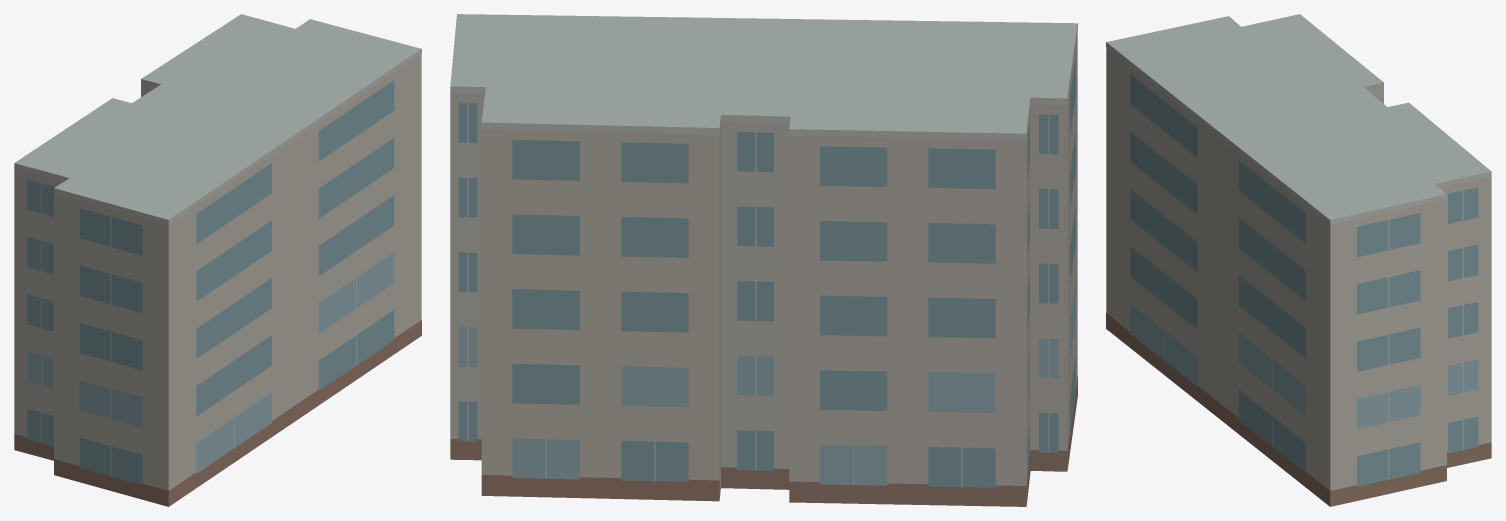
Rendered from survey-upis-32974633.glb.
The picture shows the model from 3 angles, left to right: view 1: azimuth 30°, elevation 25°; view 2: azimuth 150°, elevation 25°; view 3: azimuth 270°, elevation 25°; orthographic projection. The views are drawn at different scales.
Visible parts, largest first — view 1: survey-upis-32974633.tmp; view 2: survey-upis-32974633.tmp; view 3: survey-upis-32974633.tmp.
Boxes of the visible parts, x1,y1,x2,y2 form: survey-upis-32974633.tmp: [14, 14, 421, 506]; survey-upis-32974633.tmp: [450, 14, 1077, 506]; survey-upis-32974633.tmp: [1106, 14, 1491, 506].
Bounding box in the file's own units: 21.9 × 14.2 × 17.31.
